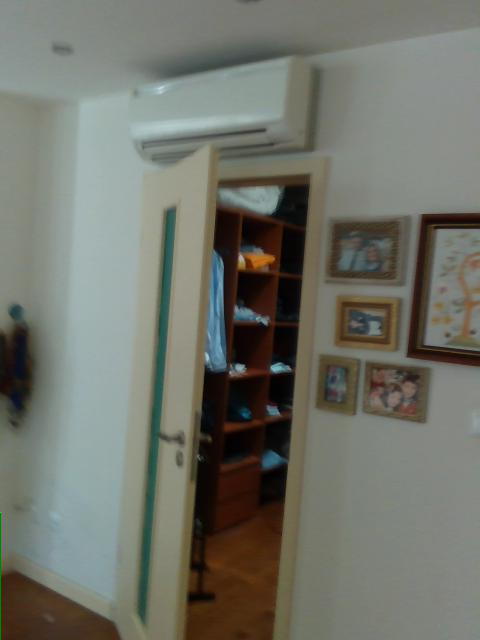semi_door: (109, 138, 328, 639)
